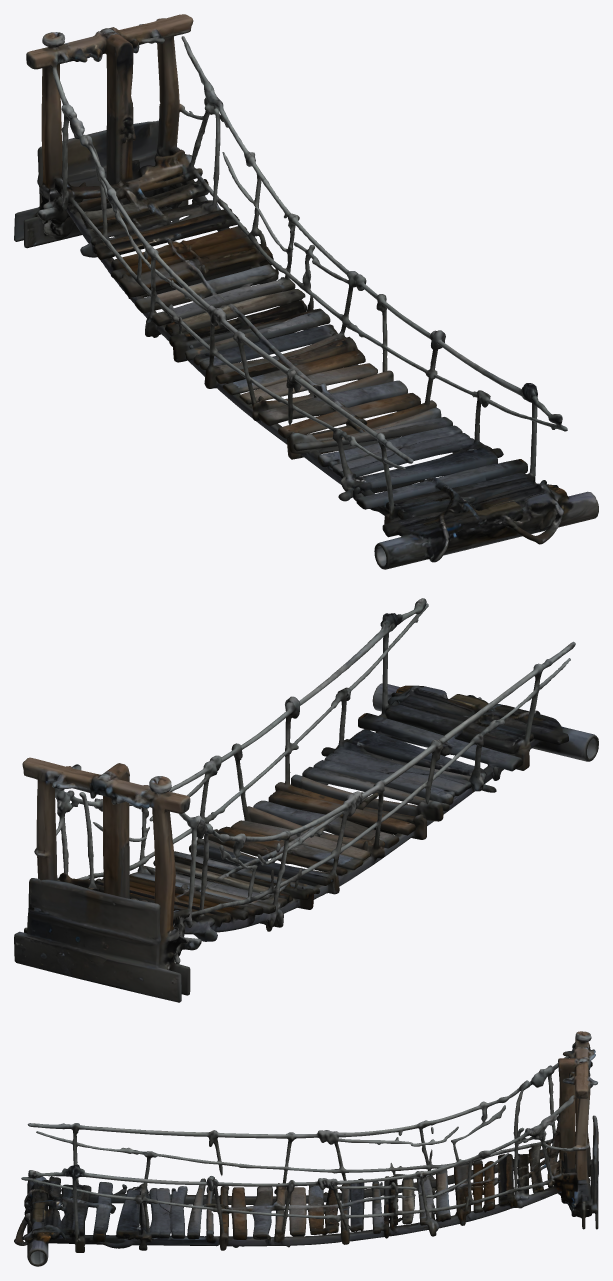
The model's file is plaza-bridge-suspension.glb.
The picture shows the model from 3 angles, top to bottom: view 1: azimuth 30°, elevation 25°; view 2: azimuth 150°, elevation 25°; view 3: azimuth 270°, elevation 25°; orthographic projection. The views are drawn at different scales.
Visible parts, largest first — view 1: tripo_node_b77535ca-390c-4b95-8a9d-3996c7f30dab; view 2: tripo_node_b77535ca-390c-4b95-8a9d-3996c7f30dab; view 3: tripo_node_b77535ca-390c-4b95-8a9d-3996c7f30dab.
Boxes of the visible parts, <box> form: tripo_node_b77535ca-390c-4b95-8a9d-3996c7f30dab: <box>14,14,598,569</box>; tripo_node_b77535ca-390c-4b95-8a9d-3996c7f30dab: <box>14,598,598,1002</box>; tripo_node_b77535ca-390c-4b95-8a9d-3996c7f30dab: <box>14,1031,598,1266</box>.
Size of the model in its own units: 2.7 by 3 by 8.95.
1 material, 1 textured.
